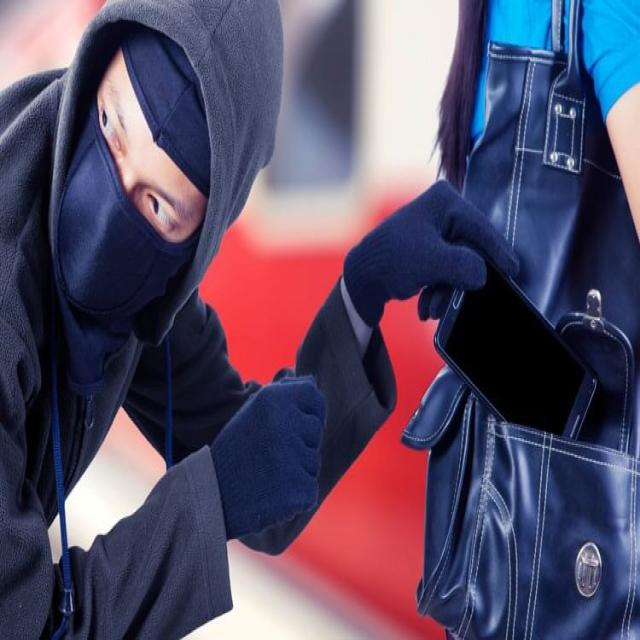Theft_Snatching: (51, 20, 603, 537)
